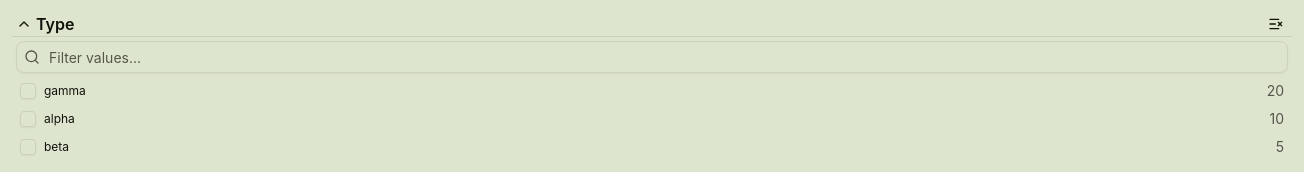
Test: FilterSection › filters values by search input
Type "alp" into the field with placeholder "Filter values..." at (652, 57), box [16,41,1288,73]
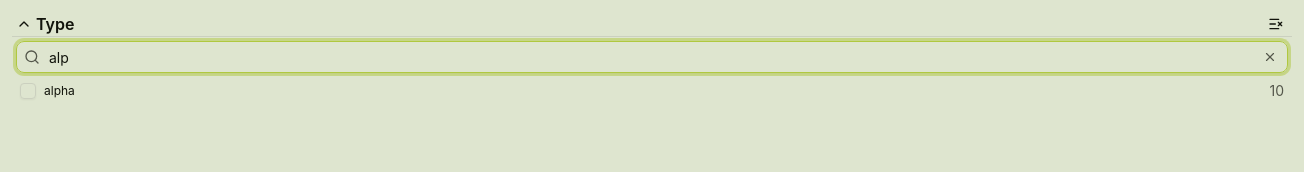
Expected: the list item shows "alpha", [12,77,1292,105]
Expected: the number of list items is 1, [12,77,1292,105]
